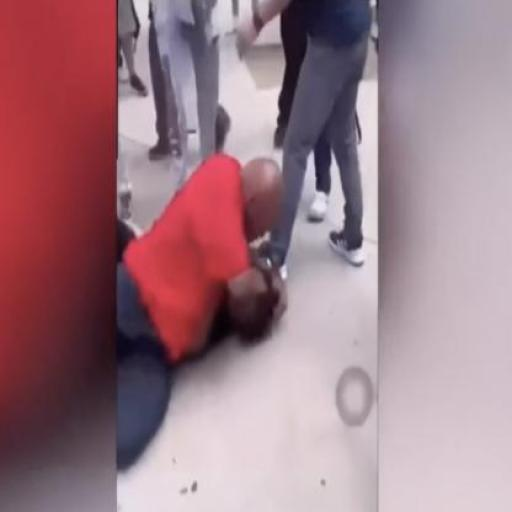Fighting: (118, 154, 293, 472)
